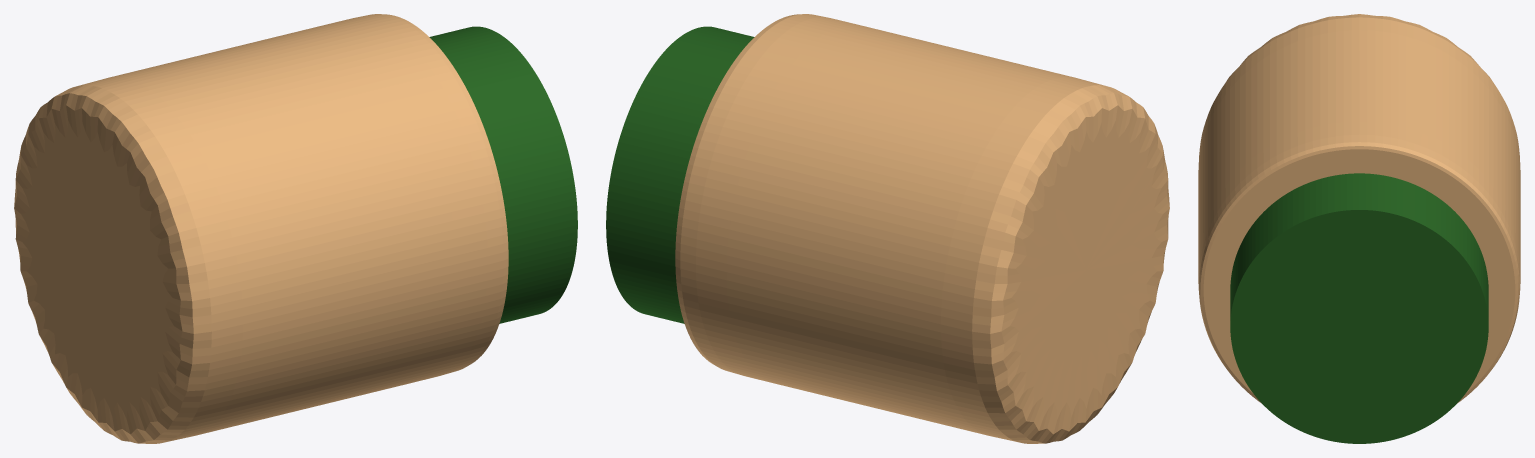
The model's file is Button_Idle.fbx.
3 renders of one model, left to right at view 1: azimuth 30°, elevation 25°; view 2: azimuth 150°, elevation 25°; view 3: azimuth 270°, elevation 25°, orthographic. The views are drawn at different scales.
Visible parts, largest first — view 1: Cylinder.001; view 2: Cylinder.001; view 3: Cylinder.001.
Boxes of the visible parts, box(x1,y1,x2,y2) form: Cylinder.001: box(14, 14, 577, 443); Cylinder.001: box(606, 14, 1169, 443); Cylinder.001: box(1198, 14, 1520, 443).
Size of the model in its own units: 69.88 by 54.84 by 54.84.
